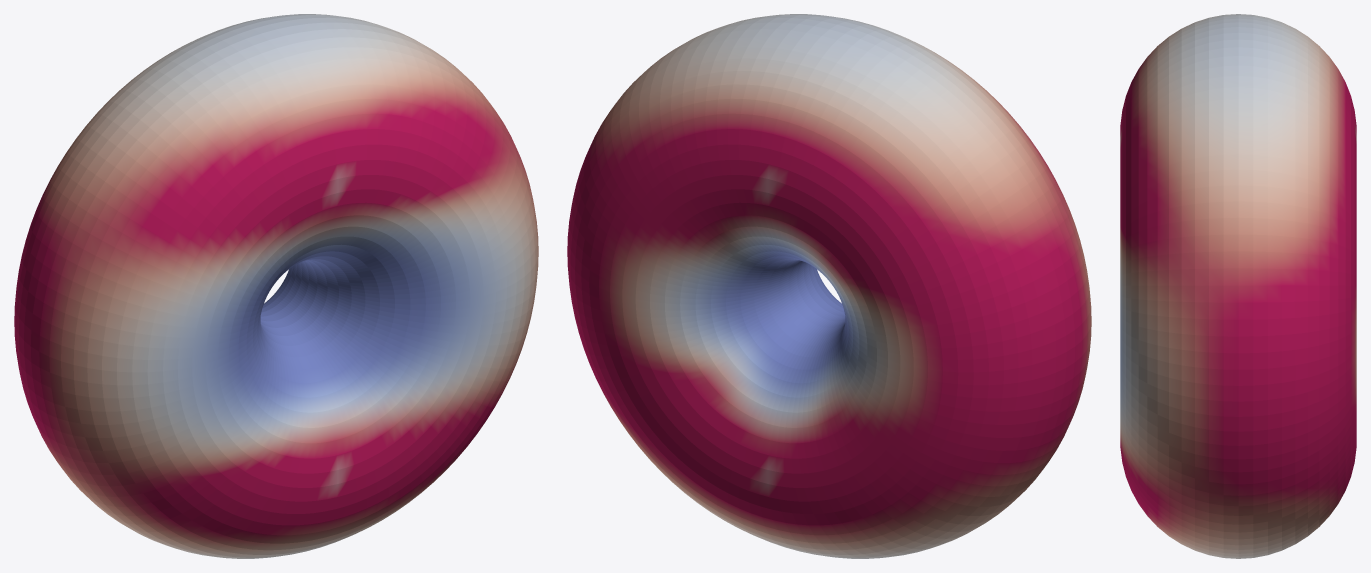
The picture shows the model from 3 angles, left to right: view 1: azimuth 30°, elevation 25°; view 2: azimuth 150°, elevation 25°; view 3: azimuth 270°, elevation 25°; orthographic projection. The views are drawn at different scales.
Parts seen in each view (by area): view 1: world; view 2: world; view 3: world.
Boxes of the visible parts, x1,y1,x2,y2 form: world: (14,14,538,558); world: (567,14,1091,558); world: (1120,14,1356,558).
Size of the model in its own units: 21.2 by 21.2 by 9.18.
